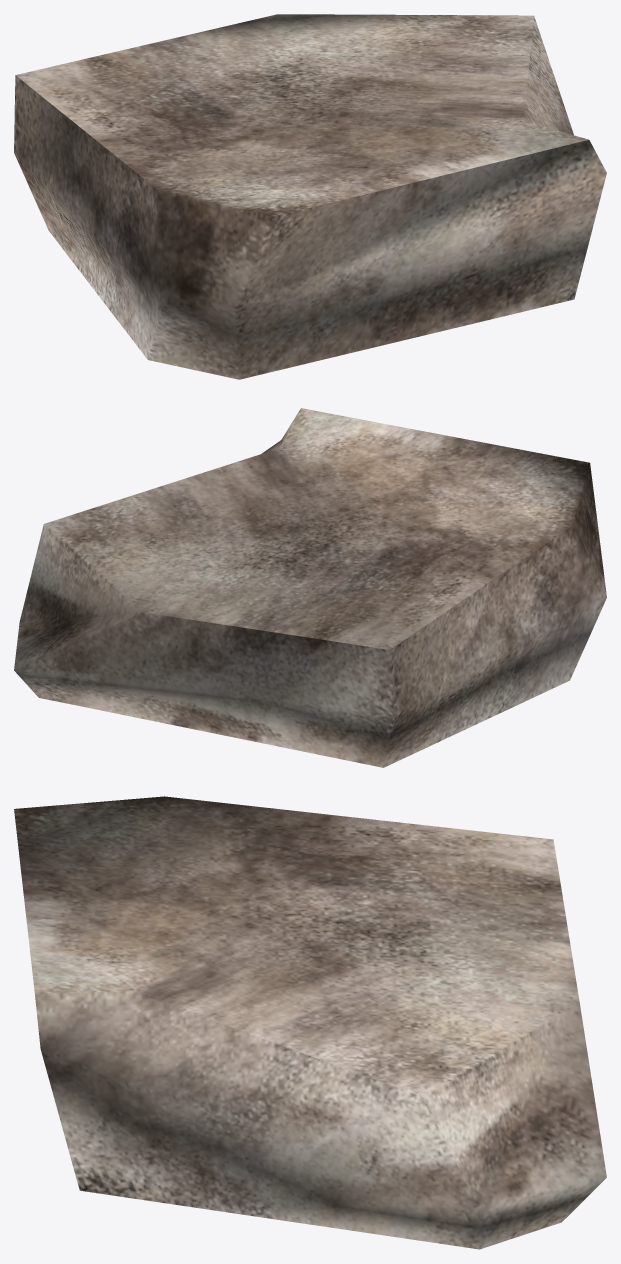
The model's file is SM_Sandstone_Rock_A_01.fbx.
3 views of the same model, one above another, from view 1: azimuth 30°, elevation 25°; view 2: azimuth 150°, elevation 25°; view 3: azimuth 270°, elevation 25° (orthographic). The views are drawn at different scales.
Visible parts, largest first — view 1: SM_Sandstone_Rock_A_01; view 2: SM_Sandstone_Rock_A_01; view 3: SM_Sandstone_Rock_A_01.
Boxes of the visible parts, bbox=[...] form: SM_Sandstone_Rock_A_01: bbox=[14, 14, 606, 379]; SM_Sandstone_Rock_A_01: bbox=[14, 408, 606, 767]; SM_Sandstone_Rock_A_01: bbox=[14, 796, 606, 1249].
Size of the model in its own units: 101 by 34.56 by 91.08.
